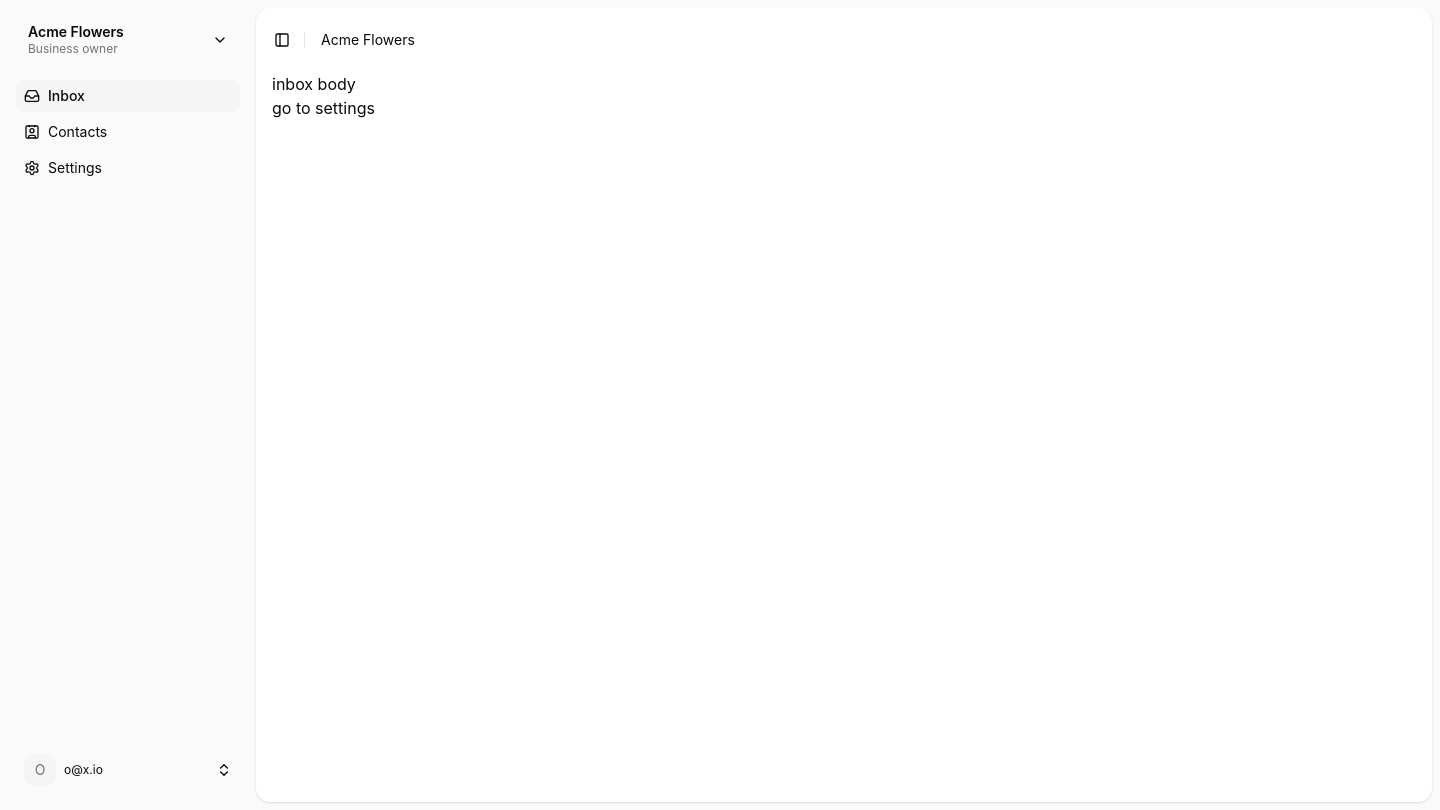
Test: AppShell › the tab live connection (SAD §4, ADR-0002) › survives navigation between workspace pages
Click the link "go to settings". click: coordinates (323, 108)
box: x1=272 y1=98 x2=375 y2=118
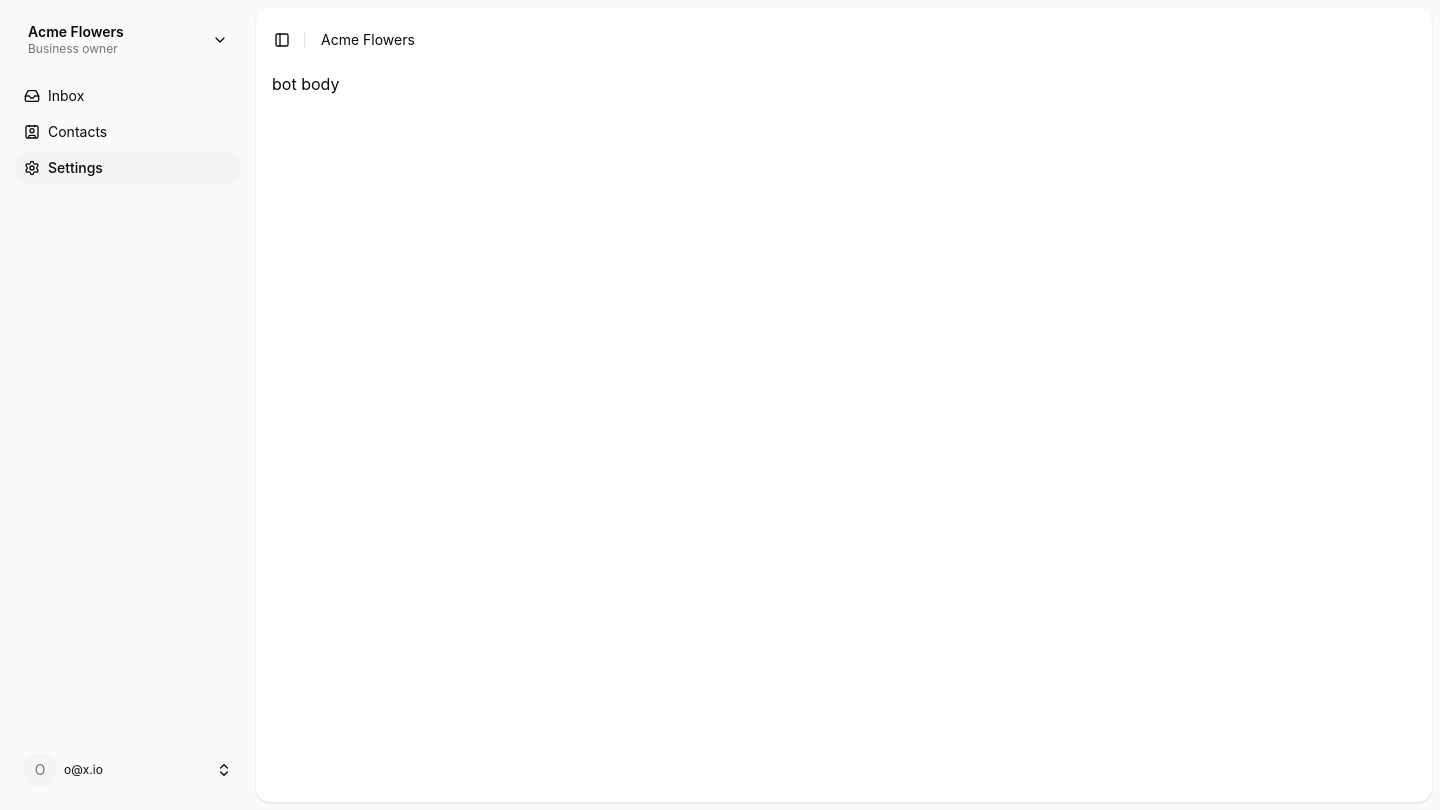
Expected: the text "bot body" is shown, x1=272 y1=74 x2=339 y2=94
